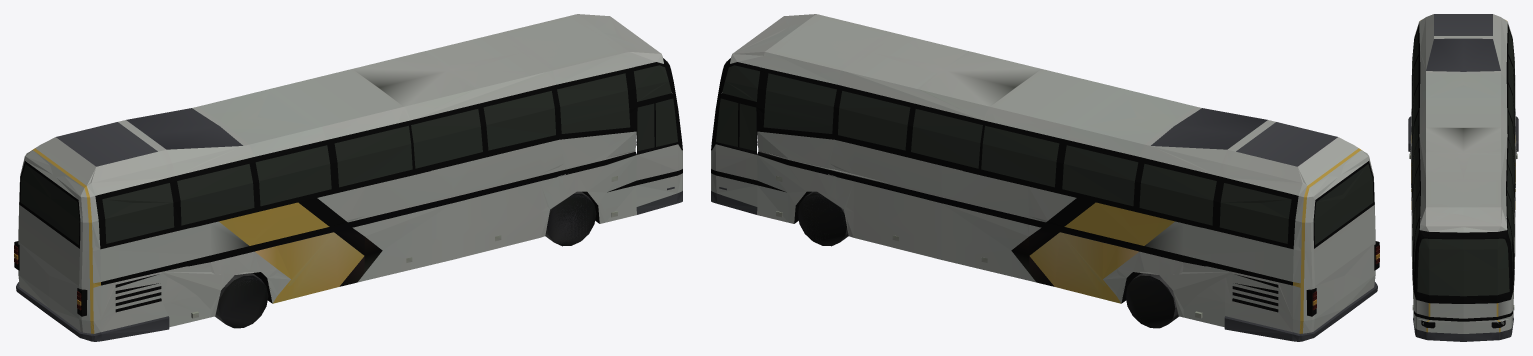
Rendered from bus.glb.
The picture shows the model from 3 angles, left to right: view 1: azimuth 30°, elevation 25°; view 2: azimuth 150°, elevation 25°; view 3: azimuth 270°, elevation 25°; orthographic projection. The views are drawn at different scales.
Parts seen in each view (by area): view 1: hi, lo; view 2: hi, lo; view 3: hi, lo.
Part boxes in pixels (x1=…): hi: x1=14, y1=14, x2=682, y2=341; lo: x1=16, y1=16, x2=673, y2=334; hi: x1=711, y1=14, x2=1379, y2=341; lo: x1=720, y1=14, x2=1378, y2=333; hi: x1=1408, y1=14, x2=1518, y2=341; lo: x1=1410, y1=14, x2=1518, y2=335.
Size of the model in its own units: 10.5 by 2.98 by 2.27.
